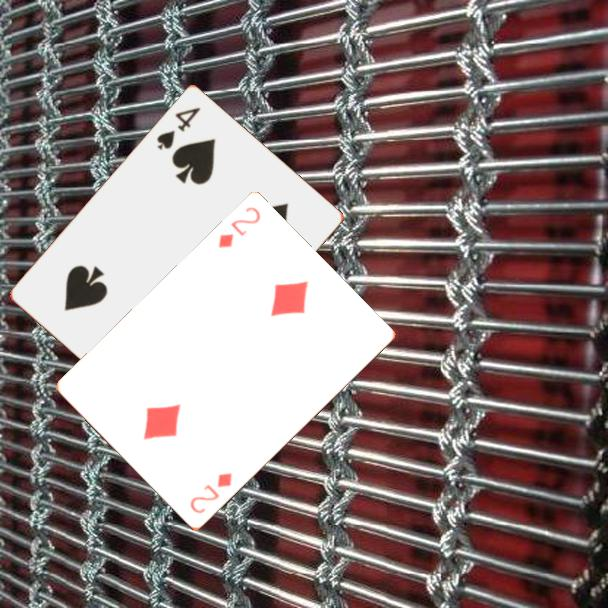d02: (214, 203, 264, 252), (186, 469, 235, 517)
s04: (153, 104, 203, 154)
